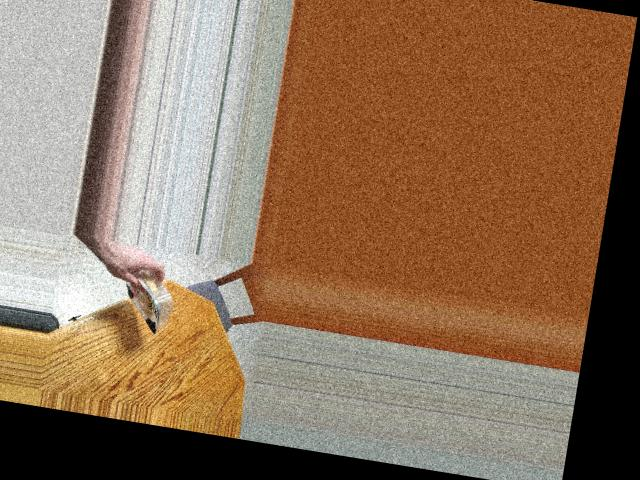cheese: (112, 263, 191, 331)
